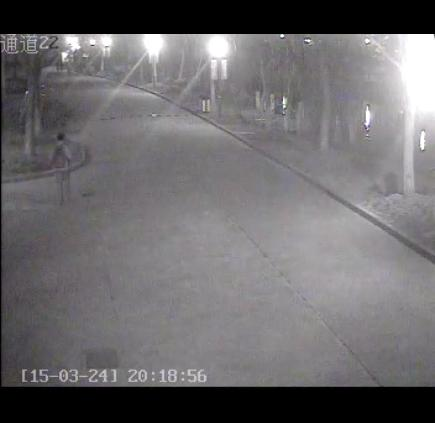person: (42, 124, 80, 214)
